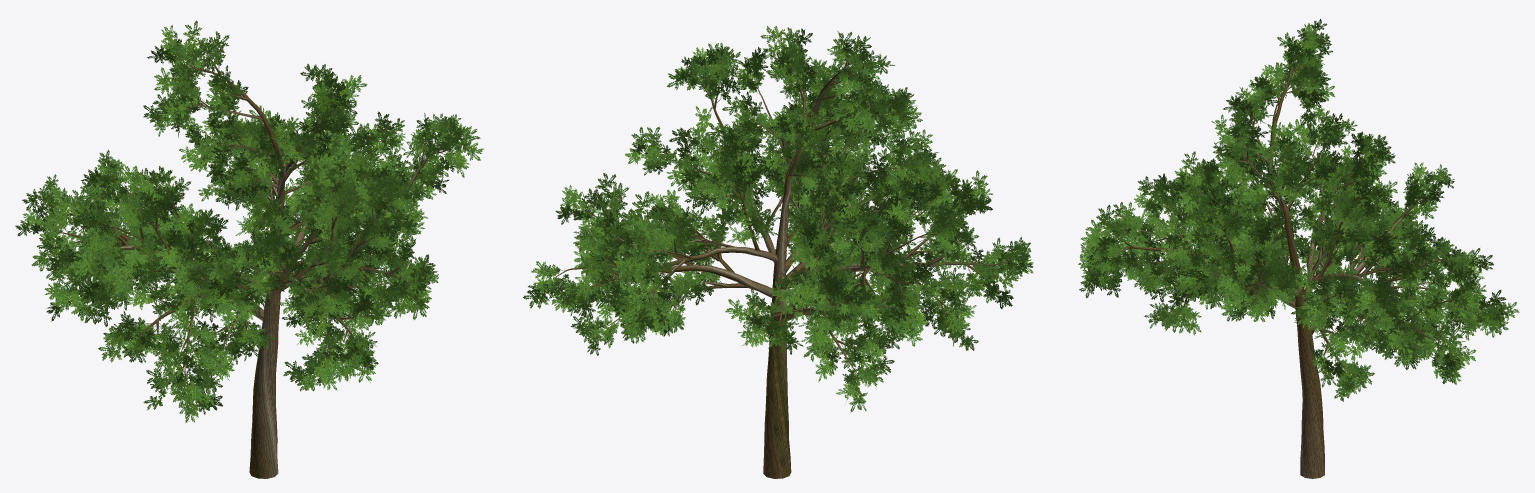
The model's file is SM_BroadTree_B_ash_ez.gltf.
3 renders of one model, left to right at view 1: azimuth 30°, elevation 25°; view 2: azimuth 150°, elevation 25°; view 3: azimuth 270°, elevation 25°, orthographic. The views are drawn at different scales.
Visible parts, largest first — view 1: SM_BroadTree_B_ash_ez; view 2: SM_BroadTree_B_ash_ez; view 3: SM_BroadTree_B_ash_ez.
Boxes of the visible parts, left/top/right/bottom form: SM_BroadTree_B_ash_ez: left=15, top=20, right=483, bottom=478; SM_BroadTree_B_ash_ez: left=523, top=26, right=1033, bottom=478; SM_BroadTree_B_ash_ez: left=1078, top=19, right=1519, bottom=478.
Bounding box in the file's own units: 14.24 × 16 × 15.5.
Materials: 2 (2 with a texture image).
